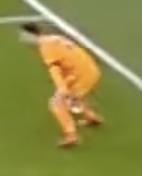goalkeeper: (10, 13, 121, 159)
